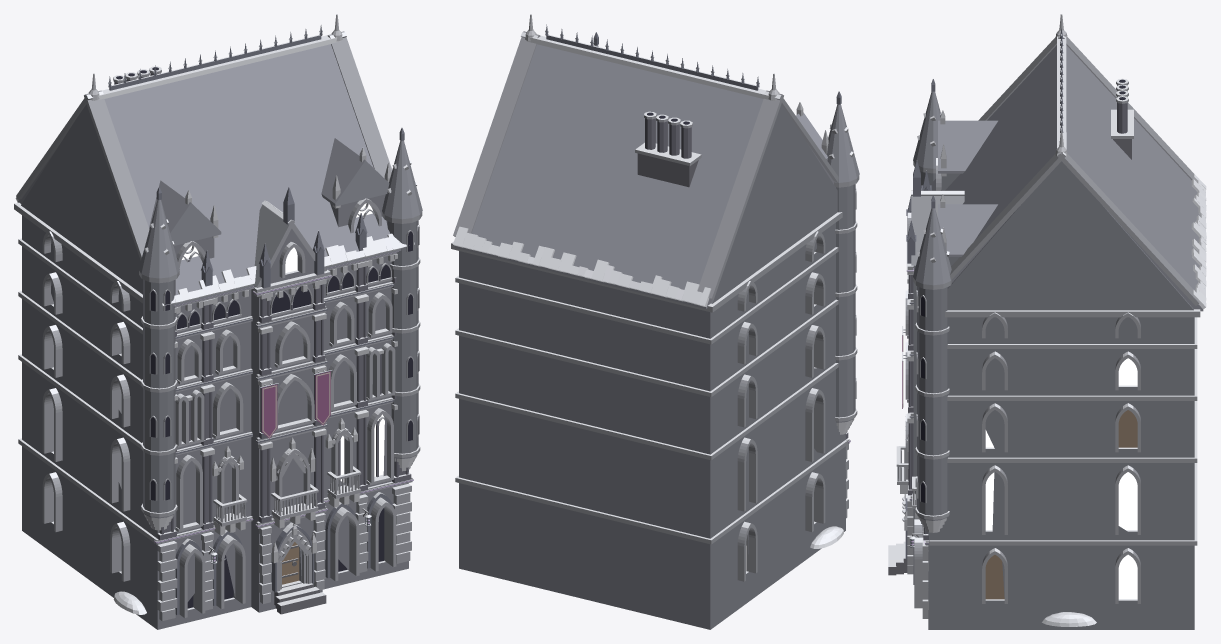
Rendered from AR_Cidade_Mansao.fbx.
The picture shows the model from 3 angles, left to right: view 1: azimuth 30°, elevation 25°; view 2: azimuth 150°, elevation 25°; view 3: azimuth 270°, elevation 25°; orthographic projection.
Parts seen in each view (by area): view 1: AR_Cidade_Mansao; view 2: AR_Cidade_Mansao; view 3: AR_Cidade_Mansao.
Part boxes in pixels (bbox=[...]): AR_Cidade_Mansao: bbox=[14, 14, 422, 629]; AR_Cidade_Mansao: bbox=[451, 14, 859, 629]; AR_Cidade_Mansao: bbox=[888, 14, 1206, 629].
Bounding box in the file's own units: 16.67 × 28.84 × 16.74.
